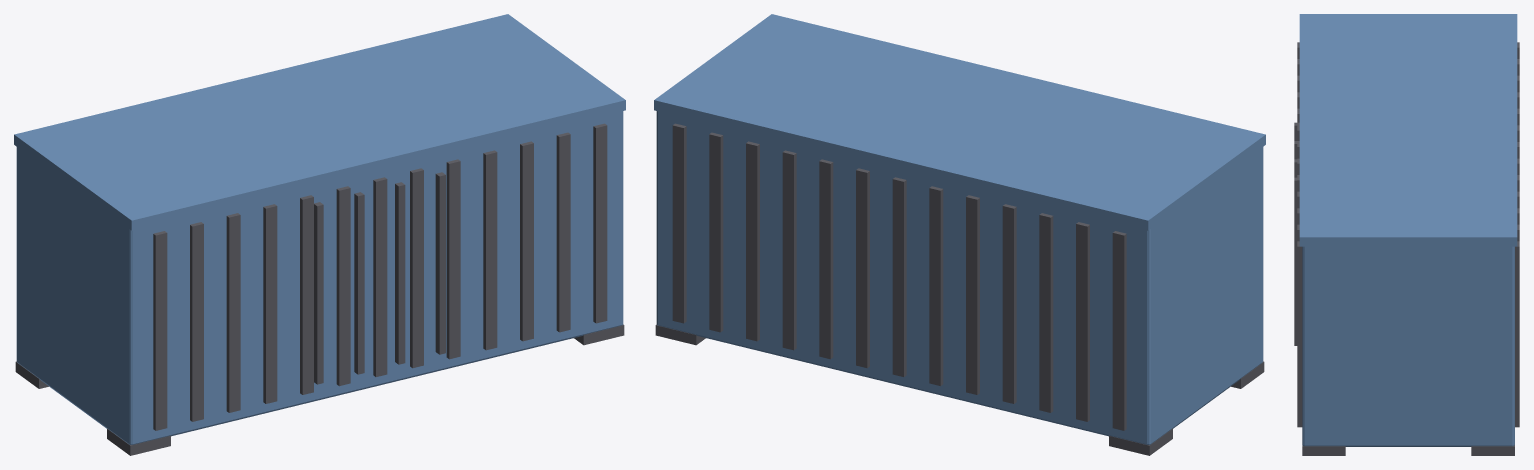
Rendered from bt-hw-cont-b.glb.
3 renders of one model, left to right at view 1: azimuth 30°, elevation 25°; view 2: azimuth 150°, elevation 25°; view 3: azimuth 270°, elevation 25°, orthographic. The views are drawn at different scales.
Parts seen in each view (by area): view 1: bt-hw-cont-b_body, bt-hw-cont-b_toprail, bt-hw-cont-b_rib6_1, bt-hw-cont-b_rib5_1, bt-hw-cont-b_rib12_1, bt-hw-cont-b_rib3_1, bt-hw-cont-b_rib11_1, bt-hw-cont-b_rib0_1, bt-hw-cont-b_rib8_1, bt-hw-cont-b_rib9_1, bt-hw-cont-b_rib2_1, bt-hw-cont-b_rib4_1 (+8 smaller); view 2: bt-hw-cont-b_body, bt-hw-cont-b_toprail, bt-hw-cont-b_rib6_-1, bt-hw-cont-b_rib5_-1, bt-hw-cont-b_rib12_-1, bt-hw-cont-b_rib3_-1, bt-hw-cont-b_rib11_-1, bt-hw-cont-b_rib0_-1, bt-hw-cont-b_rib8_-1, bt-hw-cont-b_rib9_-1, bt-hw-cont-b_rib2_-1, bt-hw-cont-b_rib4_-1 (+4 smaller); view 3: bt-hw-cont-b_toprail, bt-hw-cont-b_body, bt-hw-cont-b_rib12_1, bt-hw-cont-b_rib12_-1, bt-hw-cont-b_dbar0.75, bt-hw-cont-b_foot1_-1, bt-hw-cont-b_foot1_1.
Part boxes in pixels (<box>): bt-hw-cont-b_body: <box>16,111,623,444</box>; bt-hw-cont-b_toprail: <box>14,14,625,230</box>; bt-hw-cont-b_rib6_1: <box>373,177,387,376</box>; bt-hw-cont-b_rib5_1: <box>336,186,350,386</box>; bt-hw-cont-b_rib12_1: <box>593,123,607,323</box>; bt-hw-cont-b_rib3_1: <box>263,204,277,403</box>; bt-hw-cont-b_rib11_1: <box>556,132,570,332</box>; bt-hw-cont-b_rib0_1: <box>153,231,167,430</box>; bt-hw-cont-b_rib8_1: <box>446,159,460,359</box>; bt-hw-cont-b_rib9_1: <box>483,150,497,350</box>; bt-hw-cont-b_rib2_1: <box>226,213,240,412</box>; bt-hw-cont-b_rib4_1: <box>300,195,313,394</box>; bt-hw-cont-b_body: <box>656,111,1263,444</box>; bt-hw-cont-b_toprail: <box>654,14,1265,230</box>; bt-hw-cont-b_rib6_-1: <box>892,177,906,376</box>; bt-hw-cont-b_rib5_-1: <box>929,186,943,386</box>; bt-hw-cont-b_rib12_-1: <box>672,123,686,323</box>; bt-hw-cont-b_rib3_-1: <box>1002,204,1016,403</box>; bt-hw-cont-b_rib11_-1: <box>709,132,723,332</box>; bt-hw-cont-b_rib0_-1: <box>1112,231,1126,430</box>; bt-hw-cont-b_rib8_-1: <box>819,159,833,359</box>; bt-hw-cont-b_rib9_-1: <box>782,150,796,350</box>; bt-hw-cont-b_rib2_-1: <box>1039,213,1053,412</box>; bt-hw-cont-b_rib4_-1: <box>966,195,979,394</box>; bt-hw-cont-b_toprail: <box>1299,14,1517,246</box>; bt-hw-cont-b_body: <box>1302,246,1514,446</box>; bt-hw-cont-b_rib12_1: <box>1297,241,1302,427</box>; bt-hw-cont-b_rib12_-1: <box>1515,241,1519,427</box>; bt-hw-cont-b_dbar0.75: <box>1294,177,1297,345</box>; bt-hw-cont-b_foot1_-1: <box>1471,445,1514,455</box>; bt-hw-cont-b_foot1_1: <box>1302,445,1345,455</box>.
Bounding box in the file's own units: 6.06 × 2.77 × 2.58.
